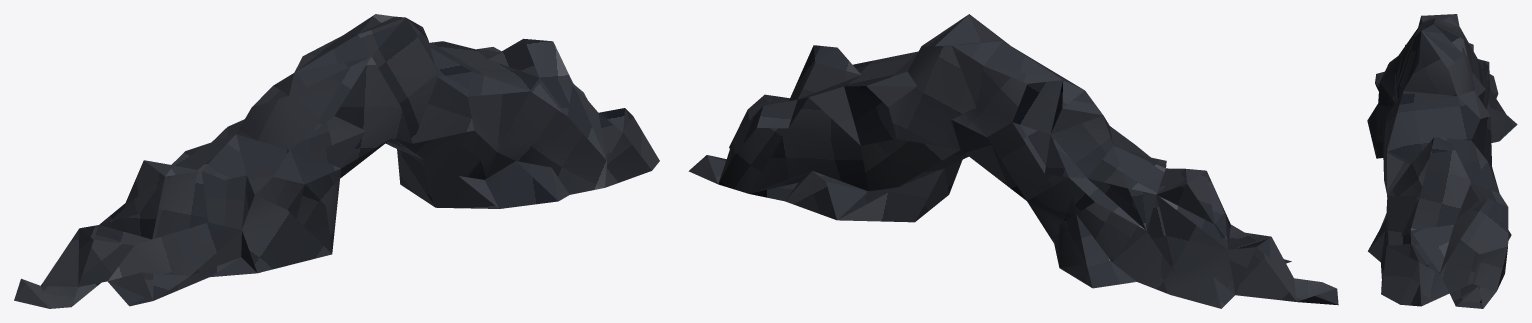
Rendered from sea-arch.collision.glb.
3 renders of one model, left to right at view 1: azimuth 30°, elevation 25°; view 2: azimuth 150°, elevation 25°; view 3: azimuth 270°, elevation 25°, orthographic. The views are drawn at different scales.
Visible parts, largest first — view 1: output_unwrapped; view 2: output_unwrapped; view 3: output_unwrapped.
Boxes of the visible parts, x1,y1,x2,y2 form: output_unwrapped: (14, 14, 659, 308); output_unwrapped: (688, 14, 1338, 308); output_unwrapped: (1367, 14, 1517, 308).
Size of the model in its own units: 1.87 by 0.5553 by 0.4373.
1 material, 1 textured.
